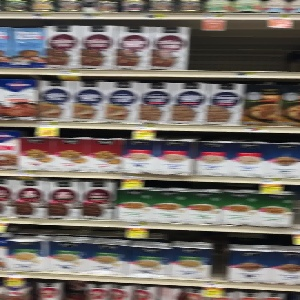void: (192, 16, 300, 76)
